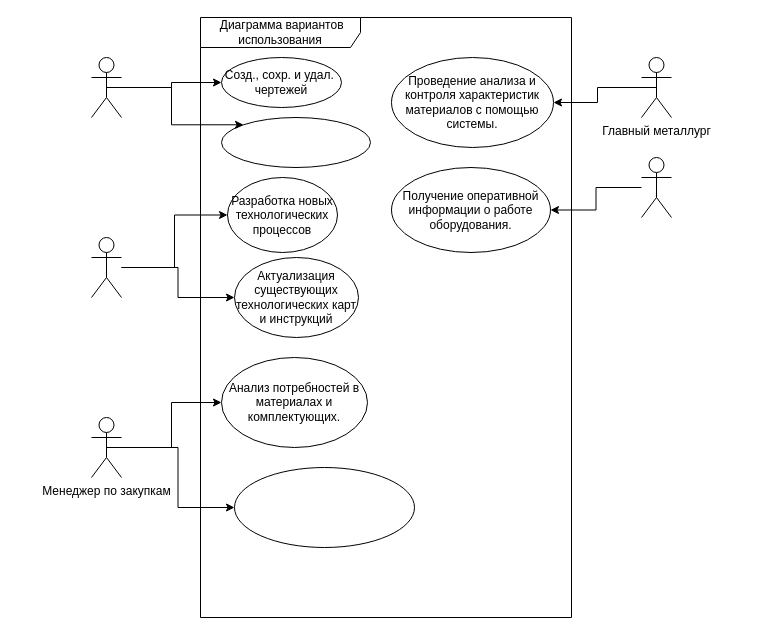
This 758x635 diagram has some shape labels left out. The shapes that lost their labels are listed below. From the top down, each one's box as (x1, y1, x2, y2) in pixels, then its label:
(90, 56, 122, 118): Главный инженер производства
(220, 116, 370, 168): Созд., сохр. и удал. Создание заказов на производство
(640, 156, 672, 218): Оператор производственного оборудования
(90, 236, 122, 298): Инженер-технолог
(234, 466, 414, 548): Формирование заказов на закупку материалов и комплектующих.
